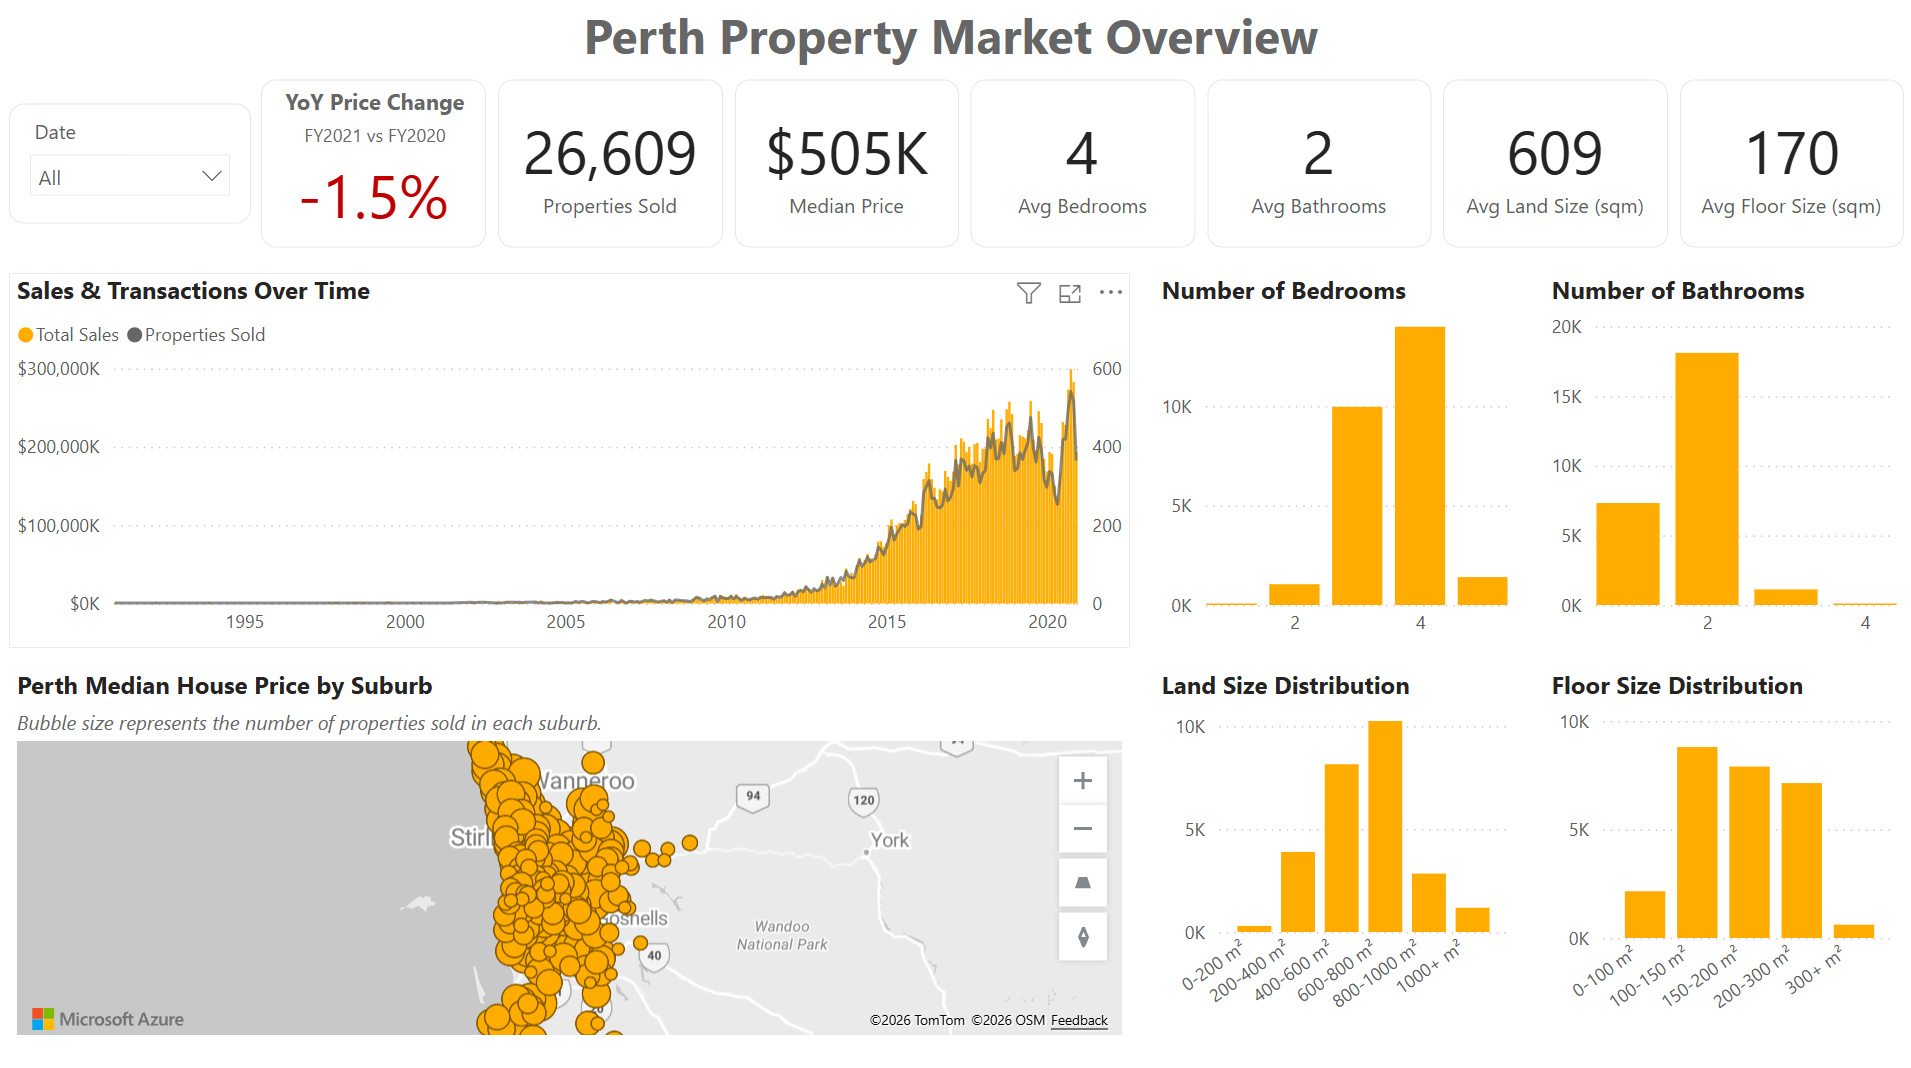

This screenshot's page, from the dashboard's own definition file:
{"tool":"powerbi","page":{"name":"Perth Property Market Overview","canvas":[1280,720],"ordinal":0},"visuals":[{"type":"textbox","box":[0,0,1280.3,57.3],"z":0},{"type":"slicer","fields":{"Values":["dim_date (2).Year","dim_date (2).MonthName"]},"box":[7.8,73.4,160.7,80],"z":1000,"group":"g1"},{"type":"lineStackedColumnComboChart","title":"Sales & Transactions Over Time","fields":{"Category":["dim_date.Date1"],"Y2":["my_measures.Total Properties Sold"],"Y":["my_measures.Total Sales"]},"box":[7.8,185.8,747,250],"z":2000},{"type":"card","fields":{"Values":["my_measures.Total Property Sales"]},"box":[333.9,57.4,149.6,112],"z":3000,"group":"g1"},{"type":"columnChart","title":"Number of Bedrooms","fields":{"Category":["dim_properties.Bedrooms"],"Y":["my_measures.Properties Sold"]},"box":[771.3,185.8,240.2,250.9],"z":3000},{"type":"card","fields":{"Values":["my_measures.Median Price"]},"box":[491.4,57.4,149.6,112],"z":4000,"group":"g1"},{"type":"columnChart","title":"Number of Bathrooms","fields":{"Y":["my_measures.Properties Sold"],"Category":["dim_properties.Bathrooms"]},"box":[1031,185.8,240.2,250.9],"z":4000},{"type":"card","fields":{"Values":["my_measures.Avg. Bedrooms"]},"box":[648.9,57.4,149.6,112],"z":5000,"group":"g1"},{"type":"clusteredColumnChart","title":"Land Size Distribution","fields":{"Y":["my_measures.Properties Sold"],"Category":["dim_properties.LandAreaCategory1"]},"box":[771.3,449.4,240.2,250],"z":5000},{"type":"card","fields":{"Values":["my_measures.Avg. Bathrooms"]},"box":[806.4,57.4,149.6,112],"z":6000,"group":"g1"},{"type":"clusteredColumnChart","title":"Floor Size Distribution","fields":{"Y":["my_measures.Properties Sold"],"Category":["dim_properties.FloorAreaCategory1"]},"box":[1031,449.4,240.2,250],"z":6000},{"type":"card","fields":{"Values":["my_measures.Avg. Land Size"]},"box":[963.9,57.4,149.6,112],"z":7000,"group":"g1"},{"type":"azureMap","title":"Perth Median House Price by Suburb ","fields":{"Size":["my_measures.Properties Sold"],"X":["dim_location.Longitude"],"Y":["dim_location.Latitude"],"PathID":["dim_location.Suburb"]},"box":[7.8,449.4,747,250],"z":7000},{"type":"group","id":"g1","title":"Group 1","box":[7.8,57.4,1263.5,111.9],"z":8000},{"type":"card","fields":{"Values":["my_measures.Avg. Floor Size"]},"box":[1121.4,57.4,149.6,112],"z":8000,"group":"g1"},{"type":"card","title":"YoY Price Change","fields":{"Values":["my_measures.YoY % Median Price"]},"box":[176,57.4,149.8,112],"z":14000,"group":"g1"}]}

Visuals, with their boxes in screenshot pixels (x1, y1, x2, y2), scaled from the page's 1280x720 canvas onto the 1911x1068 screenshot:
textbox: 0, 0, 1910, 85
slicer - dim_date (2).Year x dim_date (2).MonthName: 12, 109, 252, 228
"Sales & Transactions Over Time" lineStackedColumnComboChart: 12, 276, 1127, 646
card - my_measures.Total Property Sales: 499, 85, 722, 251
"Number of Bedrooms" columnChart: 1152, 276, 1510, 648
card - my_measures.Median Price: 734, 85, 957, 251
"Number of Bathrooms" columnChart: 1539, 276, 1898, 648
card - my_measures.Avg. Bedrooms: 969, 85, 1192, 251
"Land Size Distribution" clusteredColumnChart: 1152, 667, 1510, 1037
card - my_measures.Avg. Bathrooms: 1204, 85, 1427, 251
"Floor Size Distribution" clusteredColumnChart: 1539, 667, 1898, 1037
card - my_measures.Avg. Land Size: 1439, 85, 1662, 251
"Perth Median House Price by Suburb " azureMap: 12, 667, 1127, 1037
"Group 1" group: 12, 85, 1898, 251
card - my_measures.Avg. Floor Size: 1674, 85, 1898, 251
"YoY Price Change" card: 263, 85, 486, 251
